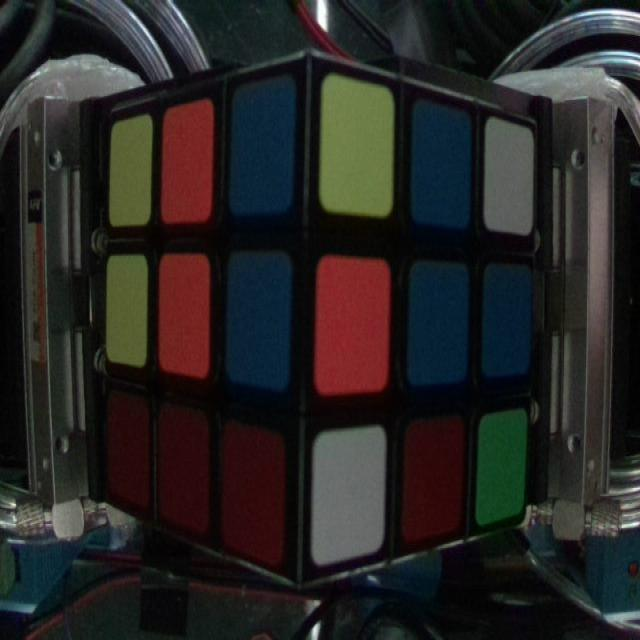b: (233, 88, 292, 211), (230, 253, 285, 384), (416, 103, 467, 224), (413, 270, 467, 378), (488, 270, 530, 374)
g: (479, 418, 523, 518)
o: (318, 260, 389, 392), (158, 255, 208, 373), (167, 109, 210, 219)
r: (224, 419, 280, 553), (406, 421, 464, 540), (159, 405, 205, 523), (105, 393, 147, 500)
w: (315, 438, 380, 558), (488, 122, 536, 230)
y: (324, 84, 393, 216), (109, 260, 149, 365), (109, 123, 147, 217)
